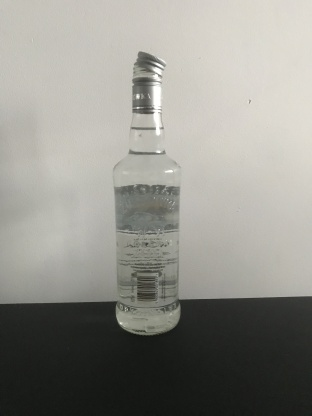nakretka: (130, 48, 167, 114)
